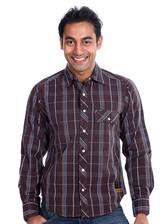clothoes: (15, 63, 157, 218)
